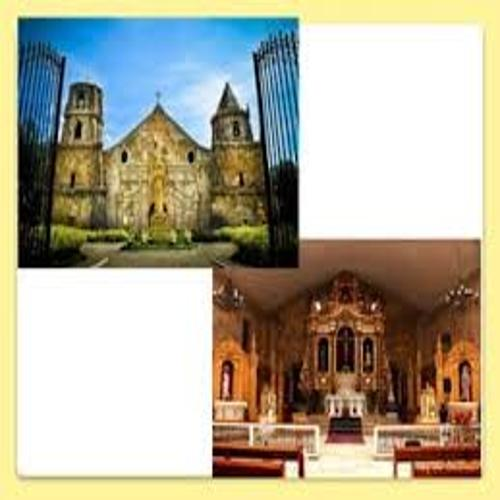Miagao Church: (54, 72, 272, 238)
